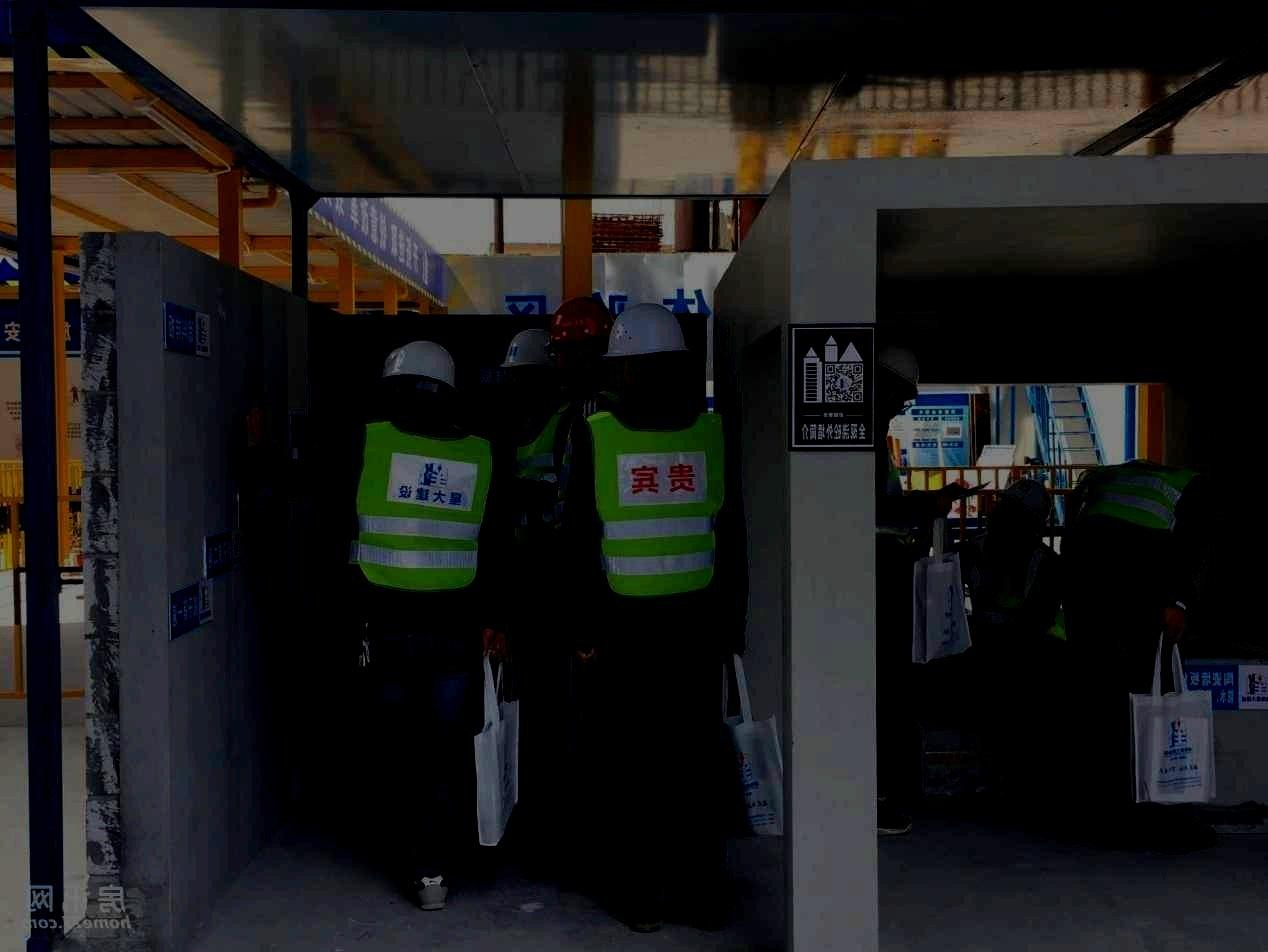helmet: (603, 303, 692, 397), (545, 296, 615, 390), (387, 340, 460, 421), (500, 328, 559, 408), (877, 339, 921, 419)
